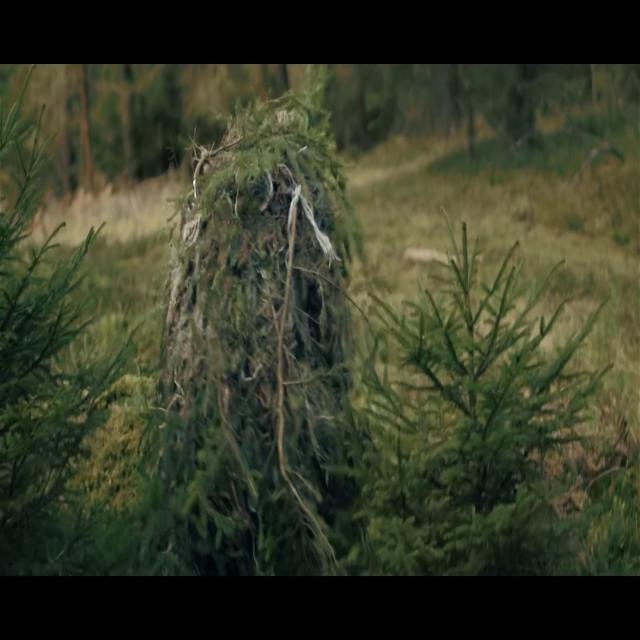Camouflage: (143, 87, 372, 572)
